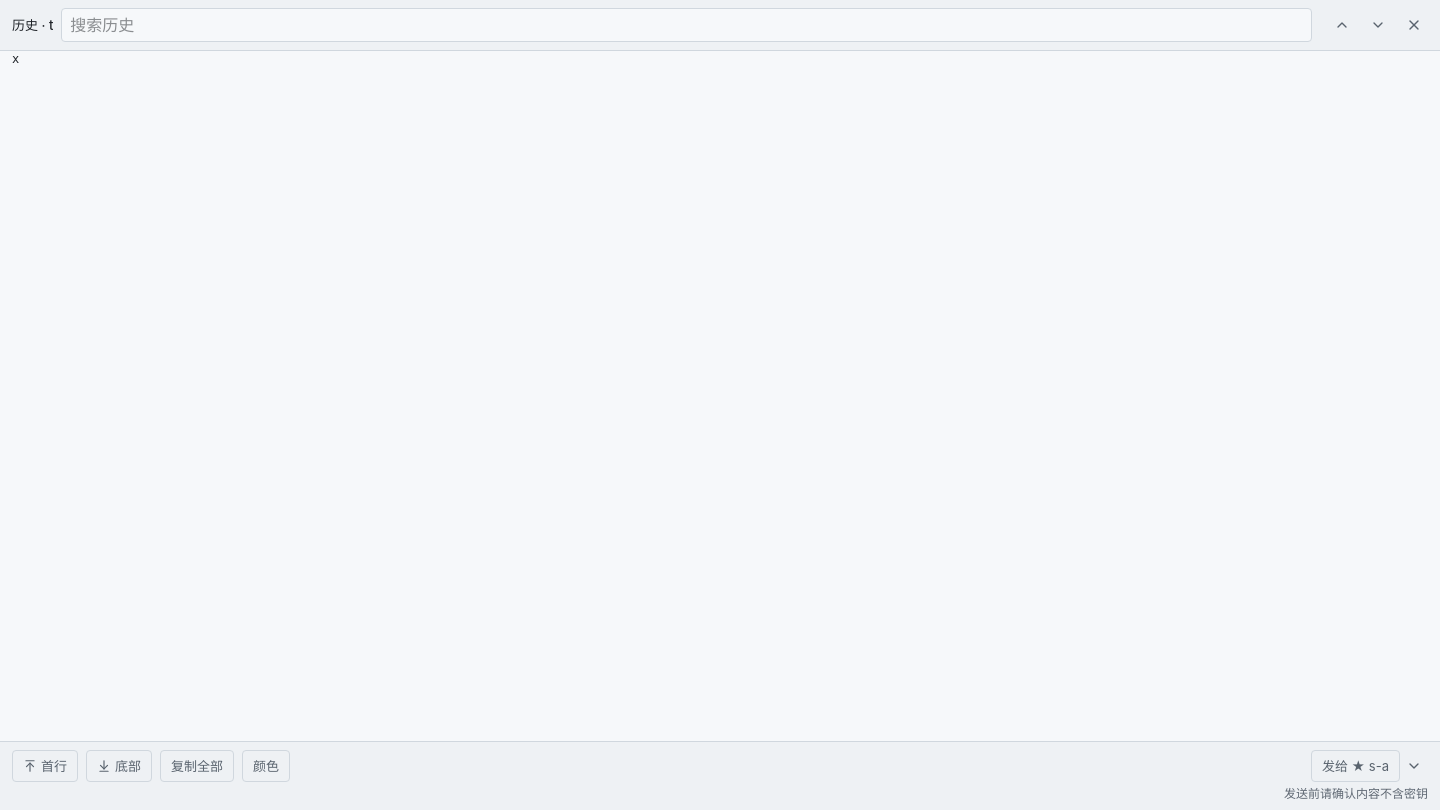
HistoryView › ★ running in collect mode: no 将打断
The width and height of the screenshot is (1440, 810).
(page scrolled)
Expected: the text "x" is shown, 12,52 -> 19,66
Click the button with aria-label "发给 s-a".
click(1356, 766)  # box 1311,750 -> 1400,782
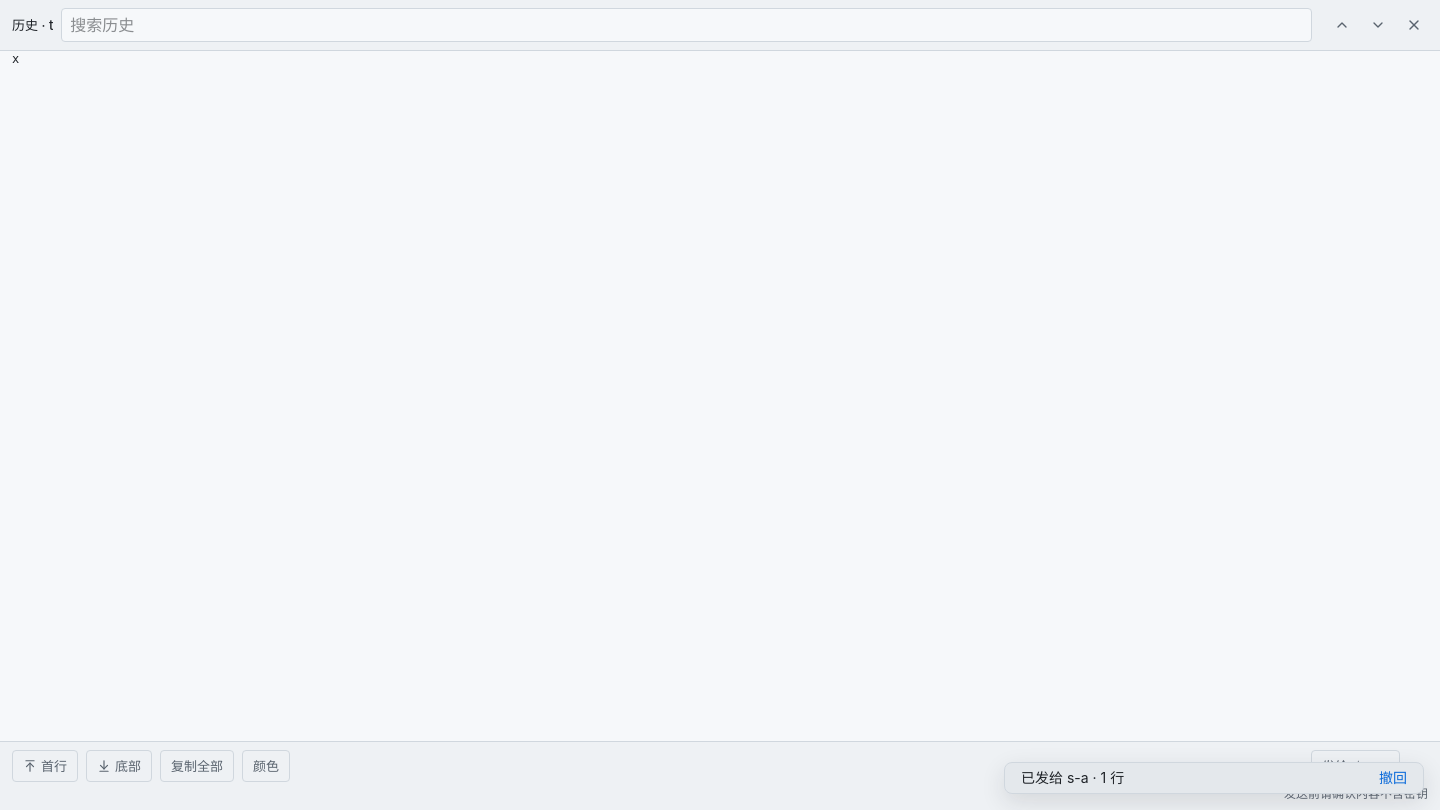
Expected: the text "已发给 s-a · 1 行" is shown, 1021,769 -> 1124,786
